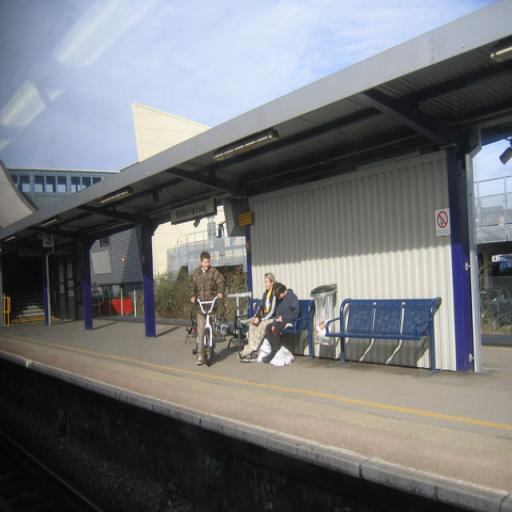platform_edge: (17, 360, 512, 498)
